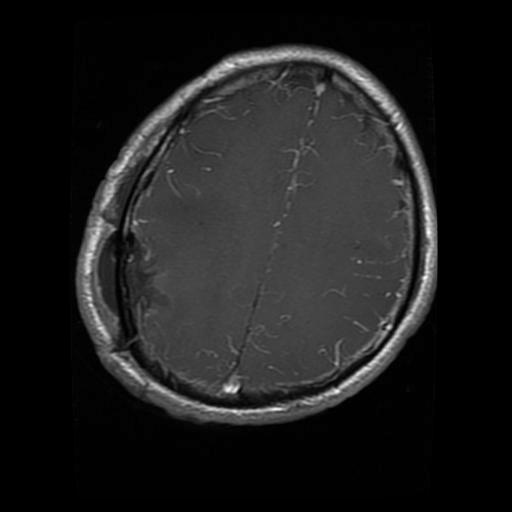Tumour-Glioma: (96, 219, 175, 348)
